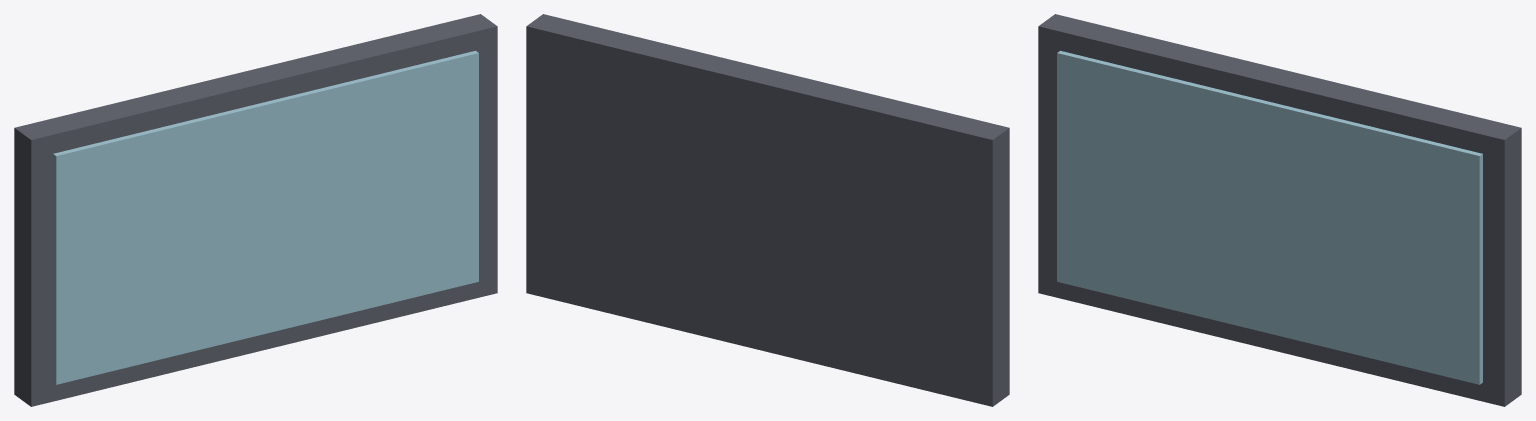
The picture shows the model from 3 angles, left to right: view 1: azimuth 30°, elevation 25°; view 2: azimuth 150°, elevation 25°; view 3: azimuth 330°, elevation 25°; orthographic projection.
Visible parts, largest first — view 1: Panel, Screen; view 2: Screen; view 3: Panel, Screen.
Part boxes in pixels (<box>): Panel: <box>53,50,478,384</box>; Screen: <box>14,14,497,406</box>; Screen: <box>526,14,1009,406</box>; Panel: <box>1057,50,1482,384</box>; Screen: <box>1038,14,1521,406</box>.
Bounding box in the file's own units: 1.28 × 0.7 × 0.095.
